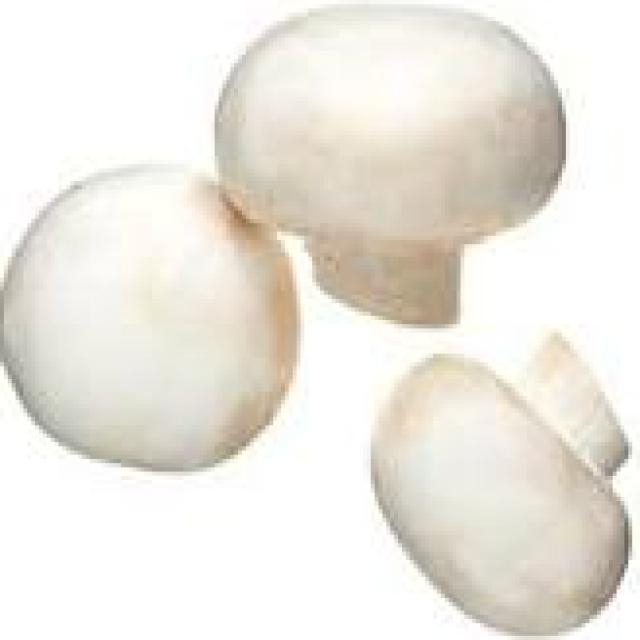mushrooms: (0, 0, 628, 636)
